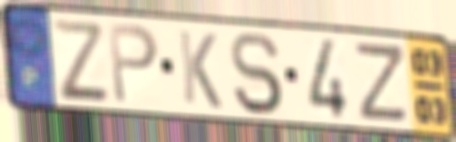4: (305, 36, 350, 122)
K: (175, 27, 224, 112)
P: (106, 20, 162, 107)
S: (228, 29, 286, 118)
Z: (49, 15, 113, 102), (354, 42, 410, 126)
